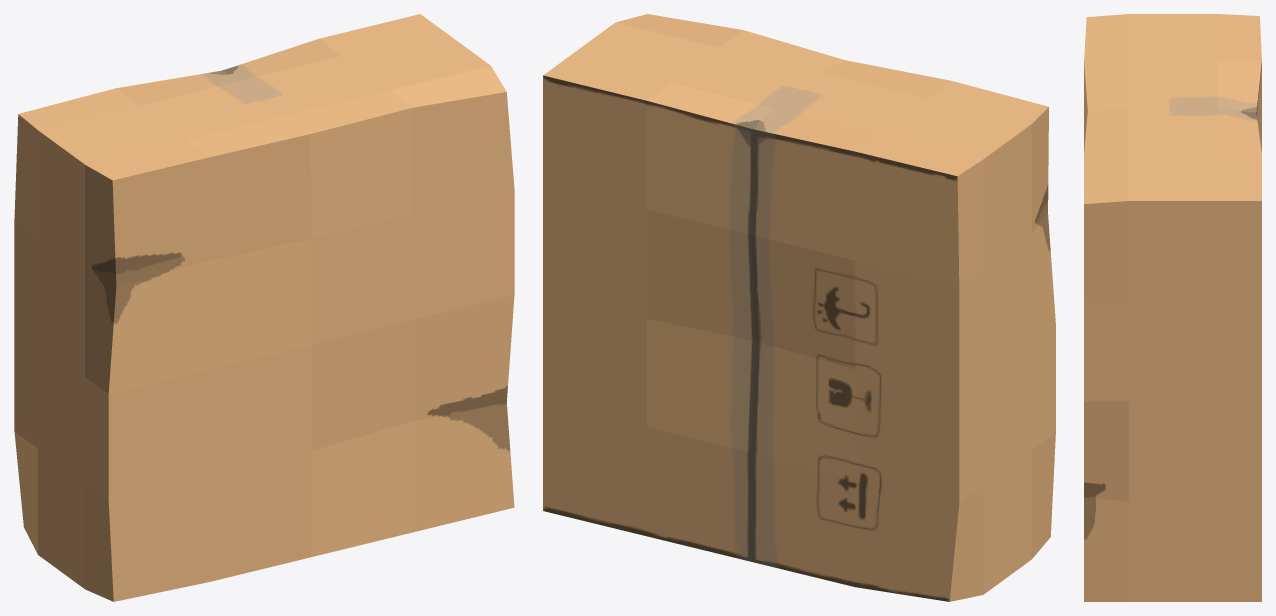
The model's file is package.glb.
3 renders of one model, left to right at view 1: azimuth 30°, elevation 25°; view 2: azimuth 150°, elevation 25°; view 3: azimuth 270°, elevation 25°, orthographic. The views are drawn at different scales.
Visible parts, largest first — view 1: Cube; view 2: Cube; view 3: Cube.
Boxes of the visible parts, x1,y1,x2,y2 form: Cube: [14, 14, 514, 601]; Cube: [543, 14, 1055, 601]; Cube: [1084, 14, 1261, 601].
Size of the model in its own units: 0.5 by 0.5 by 0.2011.
1 material, 1 textured.
